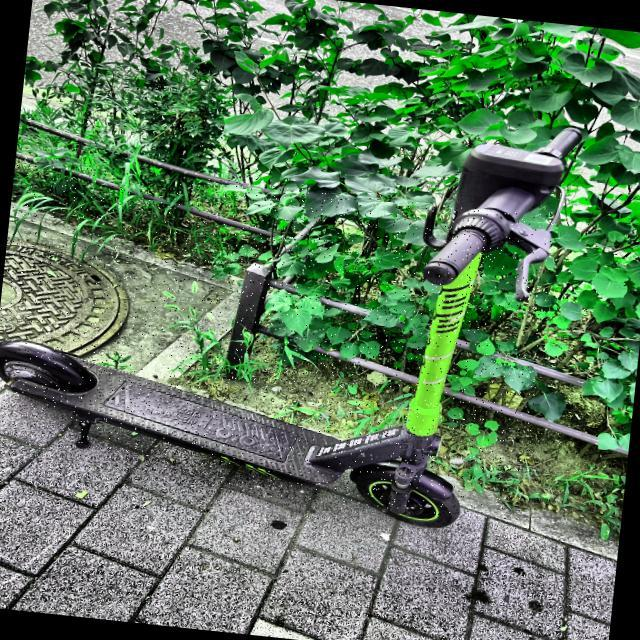bike: (0, 122, 591, 531), (304, 125, 586, 528)
